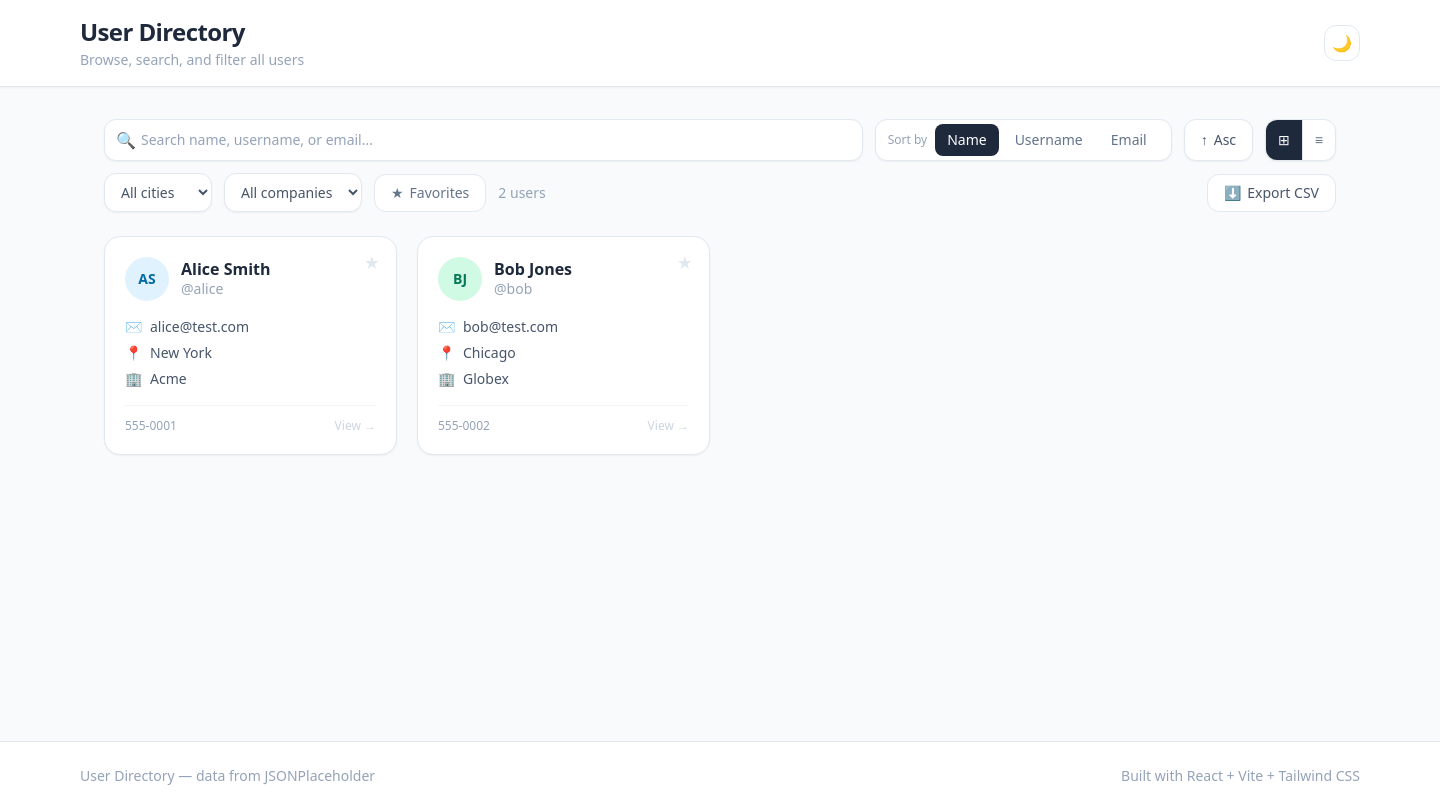
Test: Home page › filters users by search
The width and height of the screenshot is (1440, 810).
Expected: the text "Alice Smith" is shown, 181,259 -> 270,279
In the field with placeholder "Search name, username, or email…": (483, 140) 104,119 -> 863,161, type "alice"
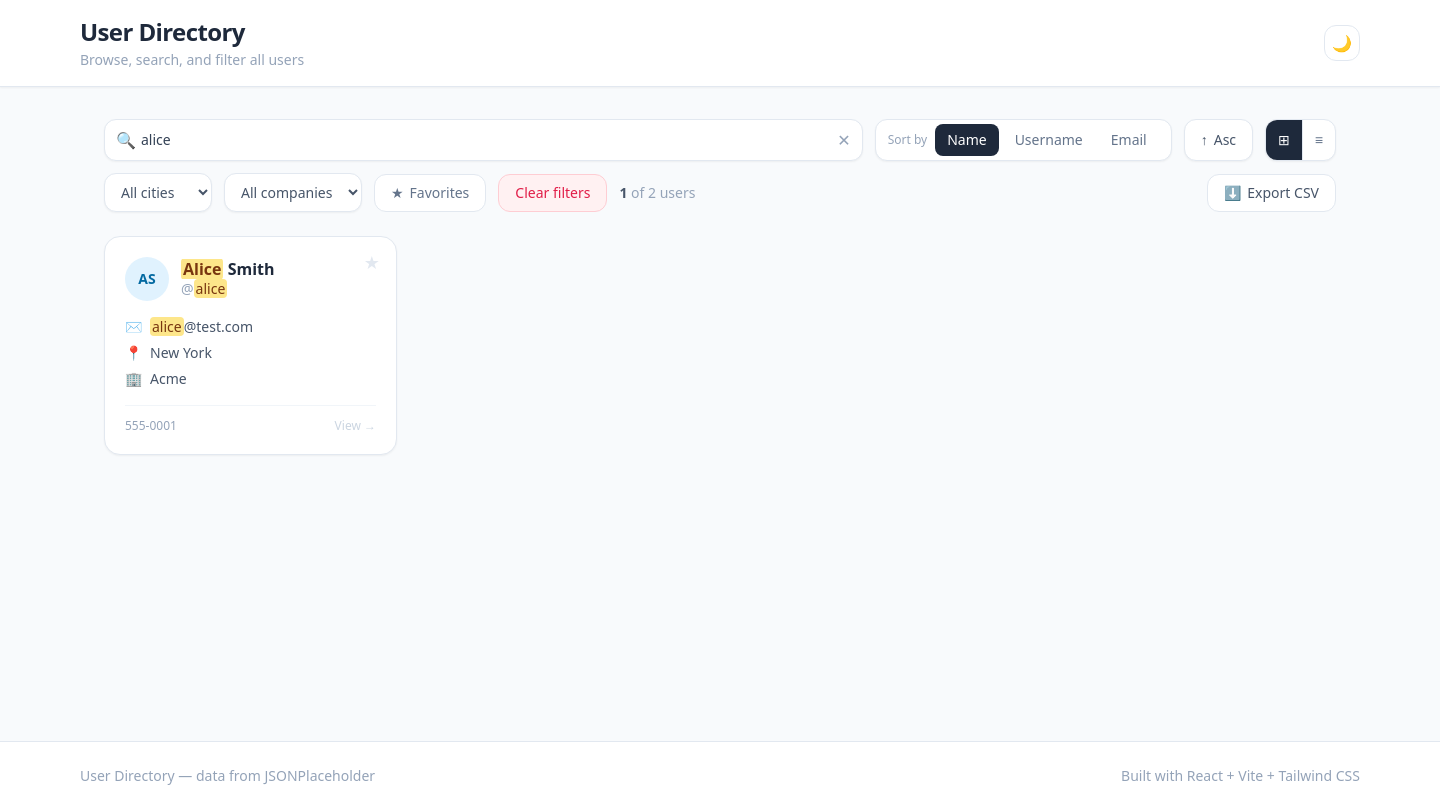
Expected: the text "Alice" is shown, 181,259 -> 224,279
Result: the link "Bob Jones" is gone
